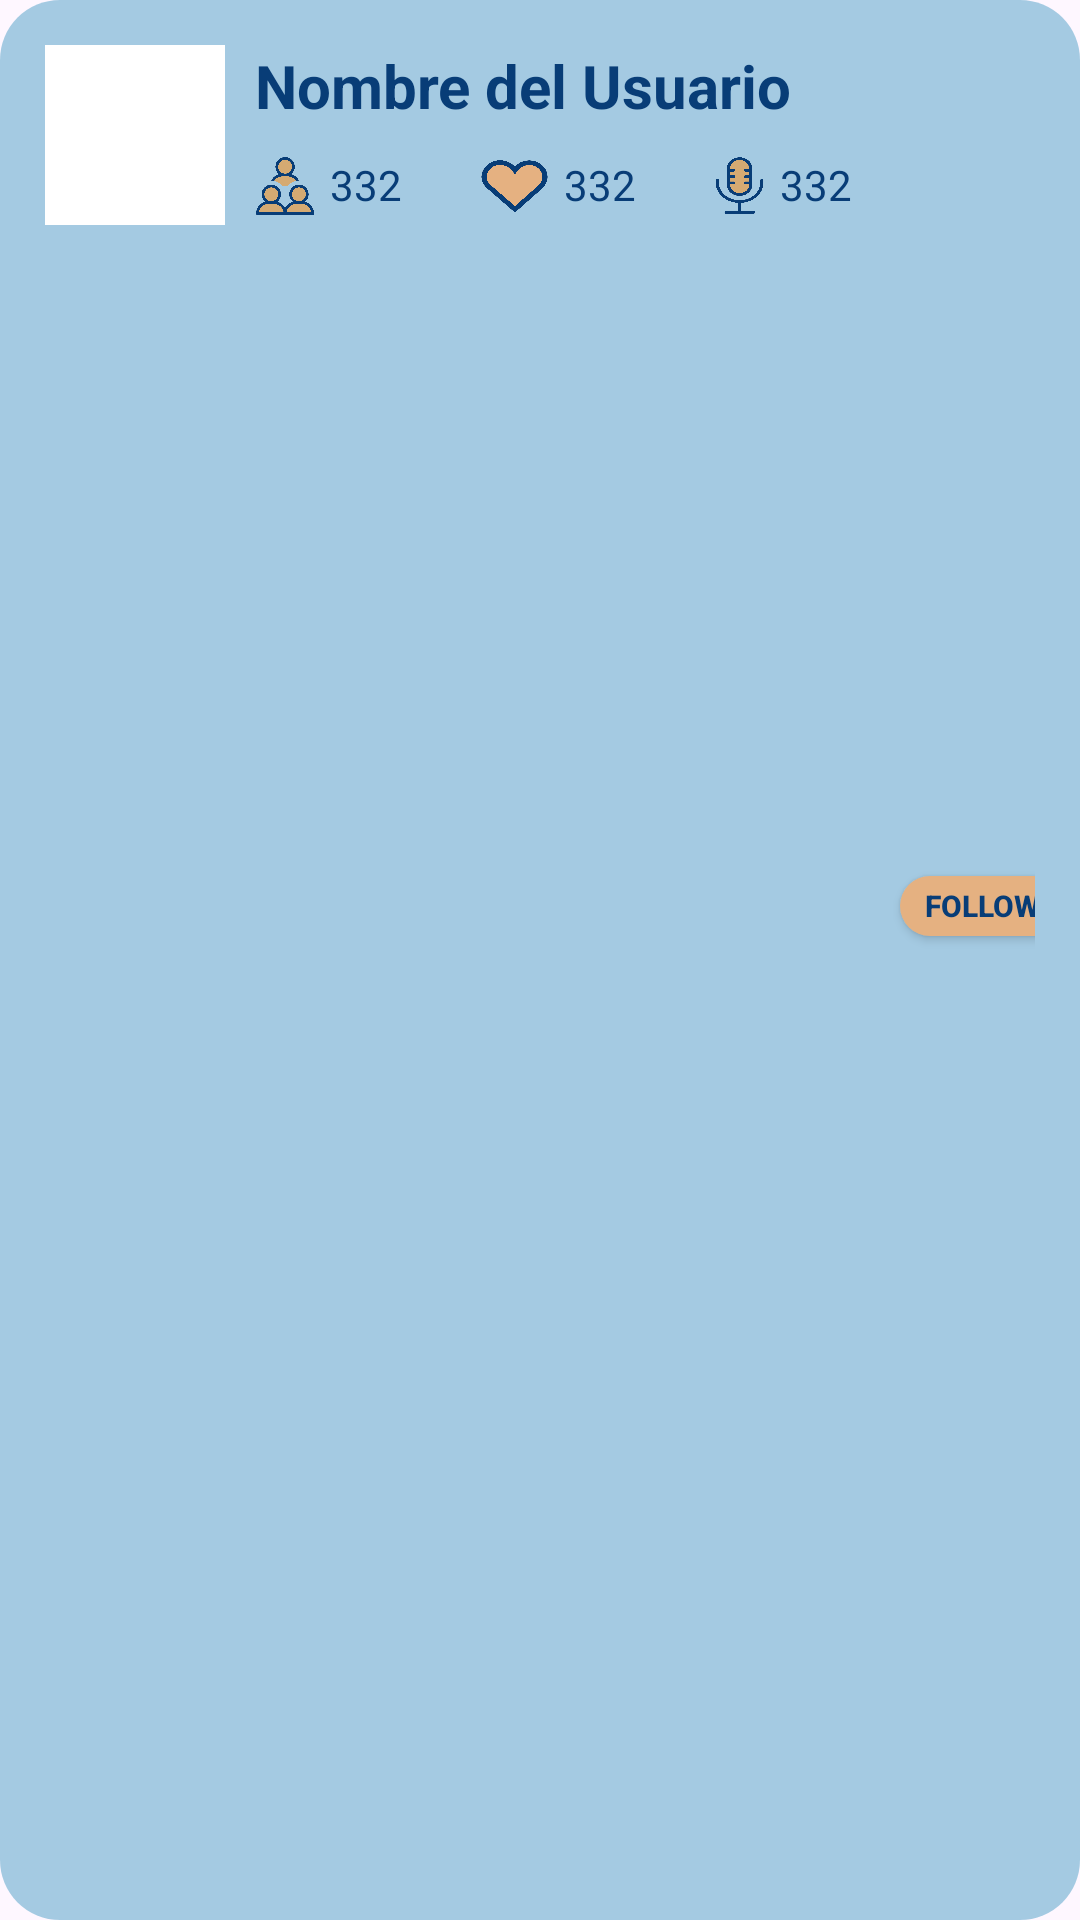

Point at icon controls on the screen. Image size 1080×1920, points as (x=x, y=y).
followers: (x=285, y=186)
heart on: (x=514, y=186)
